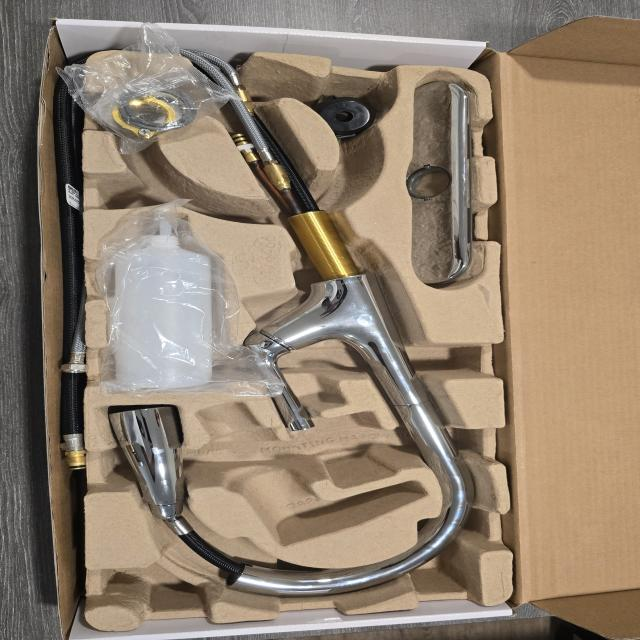1: (110, 52, 478, 597)
2m: (195, 401, 426, 545)
3: (115, 216, 213, 390)
4: (407, 83, 472, 284)
5: (314, 99, 377, 142)
6: (54, 20, 231, 155)
7m: (106, 157, 230, 219)
